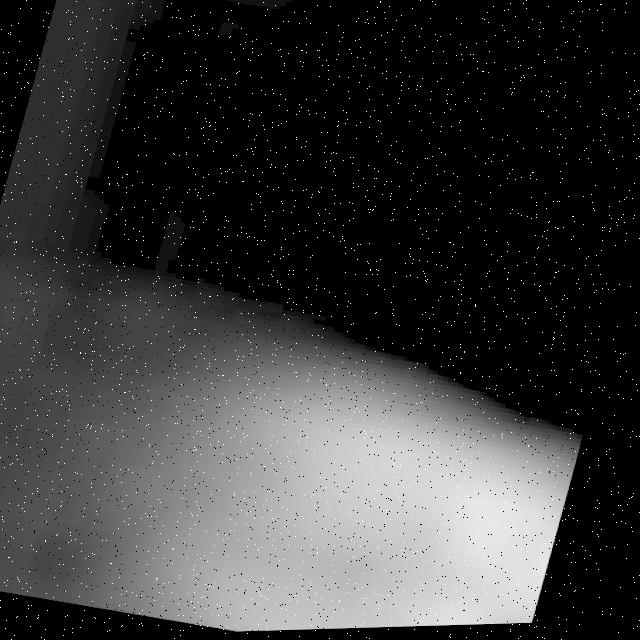person: (23, 309, 606, 640)
